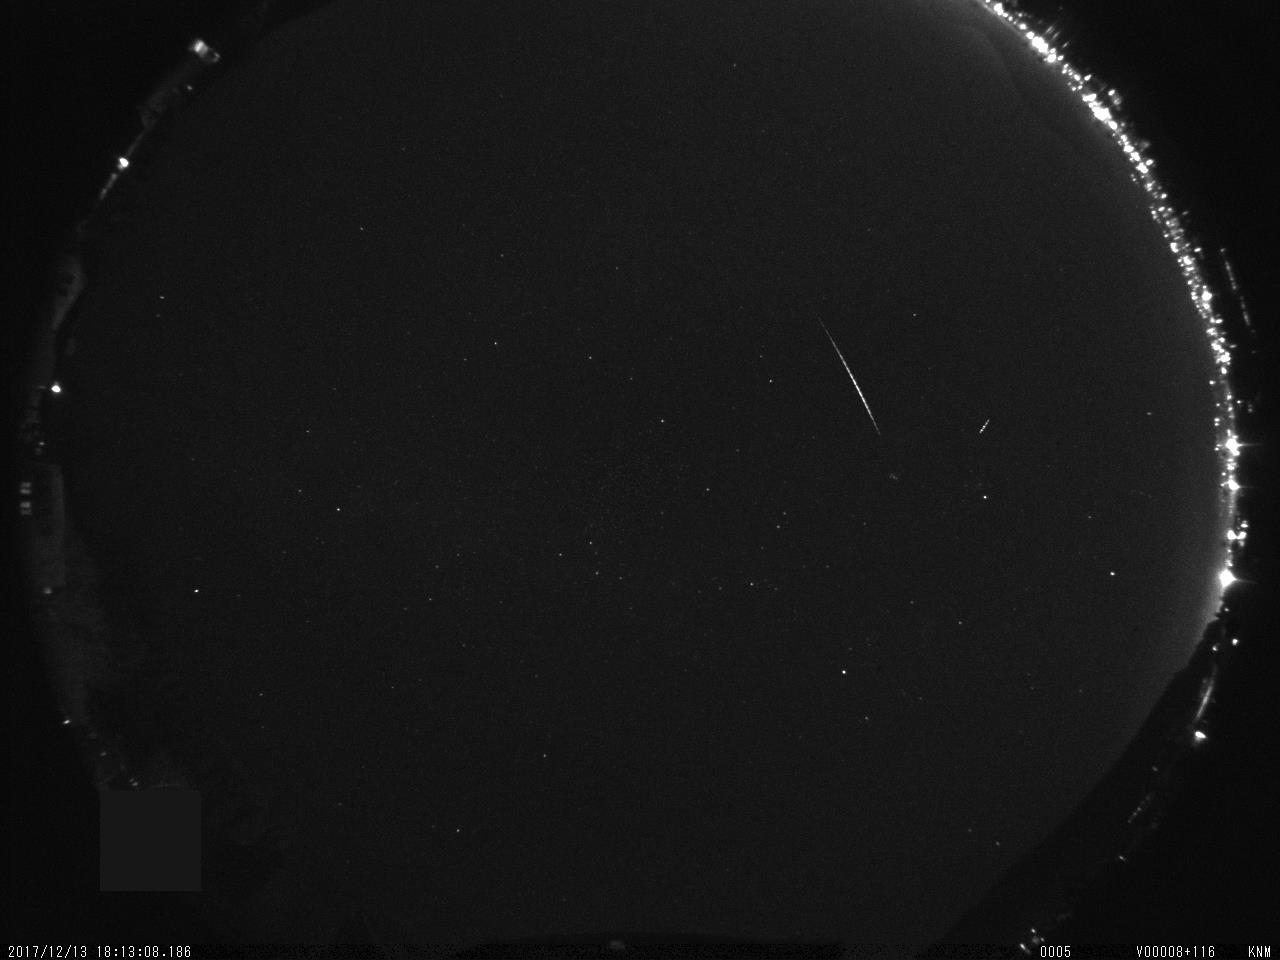meteor: (791, 290, 888, 447), (968, 406, 1002, 441)
